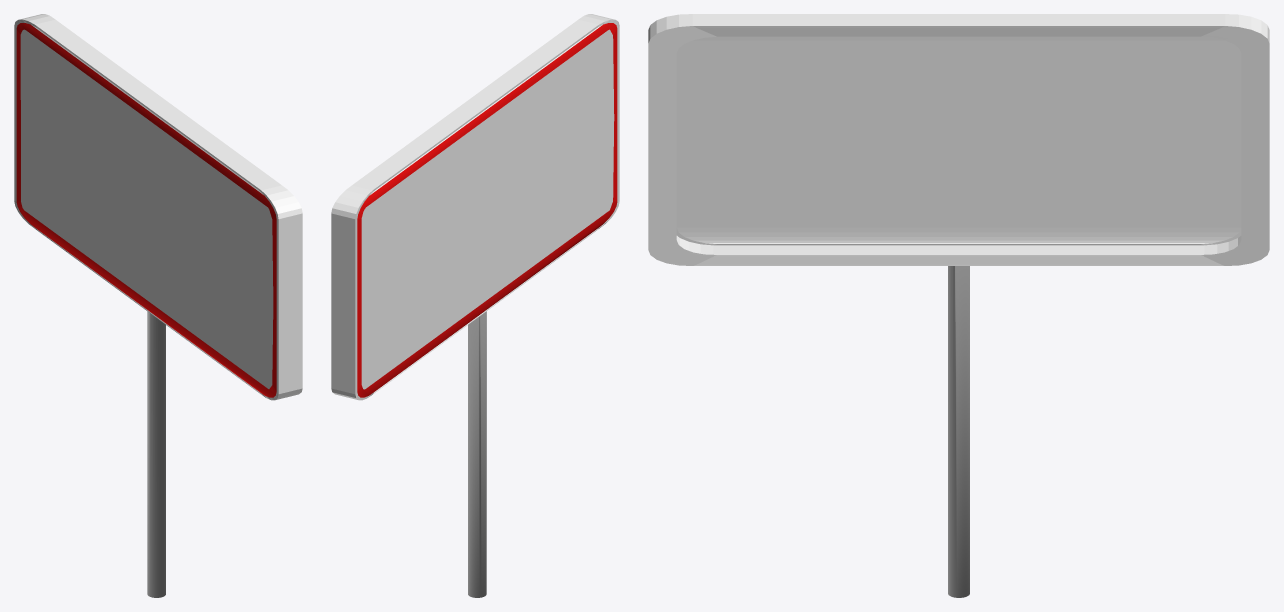
File: sign.obj
3 renders of one model, left to right at view 1: azimuth 30°, elevation 25°; view 2: azimuth 150°, elevation 25°; view 3: azimuth 270°, elevation 25°, orthographic. The views are drawn at different scales.
Parts seen in each view (by area): view 1: Cube_Cube.001; view 2: Cube_Cube.001; view 3: Cube_Cube.001.
Boxes of the visible parts, x1,y1,x2,y2 form: Cube_Cube.001: [14, 14, 302, 597]; Cube_Cube.001: [331, 14, 619, 597]; Cube_Cube.001: [648, 14, 1269, 597].
Bounding box in the file's own units: 0.0801 × 1.54 × 1.51.
Materials: 1 (1 with a texture image).
